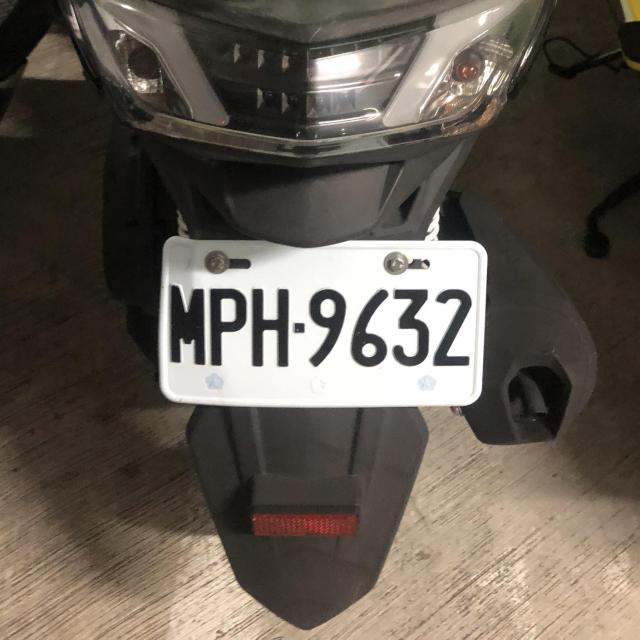W: (146, 227, 491, 419)
